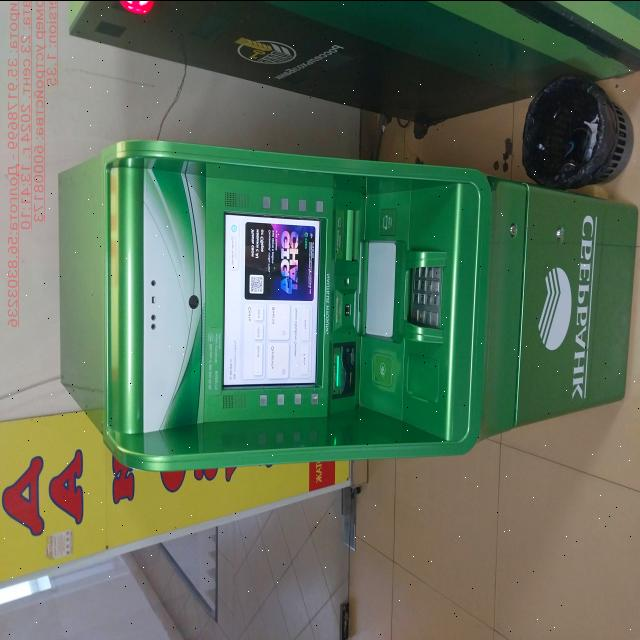bank: (56, 146, 638, 472)
